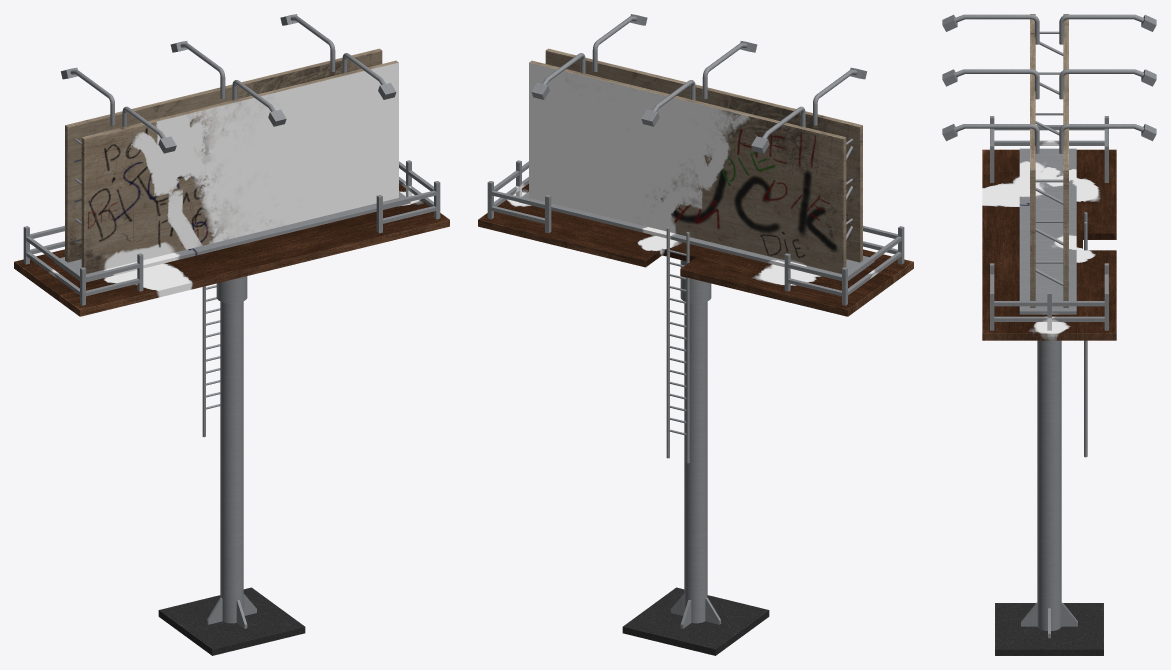
3 renders of one model, left to right at view 1: azimuth 30°, elevation 25°; view 2: azimuth 150°, elevation 25°; view 3: azimuth 270°, elevation 25°, orthographic.
Parts seen in each view (by area): view 1: shield_low, base_low, pillar_low, light_support_low, fence_low, fence2_low, stand_low, light_low, support_low; view 2: shield_low, base_low, pillar_low, light_support_low, stairs_low, fence_low, fence2_low, stand_low, light_low, stairs2_low, support_low; view 3: base_low, pillar_low, light_support_low, shield_low, fence2_low, light_low, support2_low, stand_low, support_low, stairs_low, fence_low.
Boxes of the visible parts, bbox=[...] form: shield_low: bbox=[65, 48, 398, 273]; base_low: bbox=[14, 183, 449, 655]; pillar_low: bbox=[216, 276, 247, 623]; light_support_low: bbox=[70, 16, 385, 138]; fence_low: bbox=[30, 190, 436, 296]; fence2_low: bbox=[26, 161, 433, 294]; stand_low: bbox=[23, 181, 440, 305]; light_low: bbox=[61, 14, 396, 153]; support_low: bbox=[207, 594, 256, 628]; shield_low: bbox=[529, 48, 862, 273]; base_low: bbox=[478, 183, 913, 655]; pillar_low: bbox=[680, 260, 711, 623]; light_support_low: bbox=[542, 16, 857, 138]; stairs_low: bbox=[666, 227, 689, 463]; fence_low: bbox=[491, 190, 897, 296]; fence2_low: bbox=[494, 161, 901, 294]; stand_low: bbox=[487, 181, 904, 305]; light_low: bbox=[531, 14, 866, 153]; stairs2_low: bbox=[668, 250, 686, 435]; support_low: bbox=[671, 594, 720, 628]; base_low: bbox=[982, 148, 1116, 655]; pillar_low: bbox=[1037, 340, 1061, 630]; light_support_low: bbox=[954, 14, 1144, 153]; shield_low: bbox=[1030, 14, 1068, 307]; fence2_low: bbox=[994, 125, 1104, 321]; light_low: bbox=[942, 14, 1156, 141]; support2_low: bbox=[1035, 31, 1063, 285]; stand_low: bbox=[990, 116, 1108, 330]; support_low: bbox=[1021, 602, 1077, 638]; stairs_low: bbox=[1084, 212, 1087, 457]; fence_low: bbox=[990, 128, 1108, 291].
Size of the model in its own units: 11.28 by 16.08 by 5.56.
2 materials, 2 textured.
